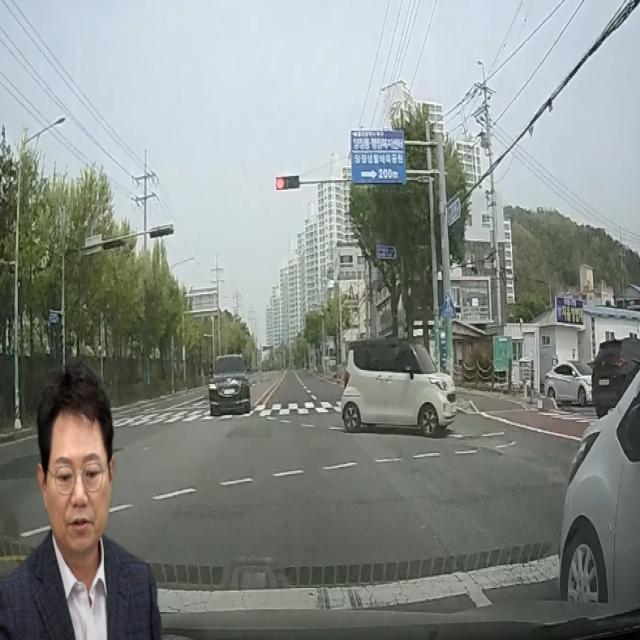Red Light: (276, 174, 285, 192)
